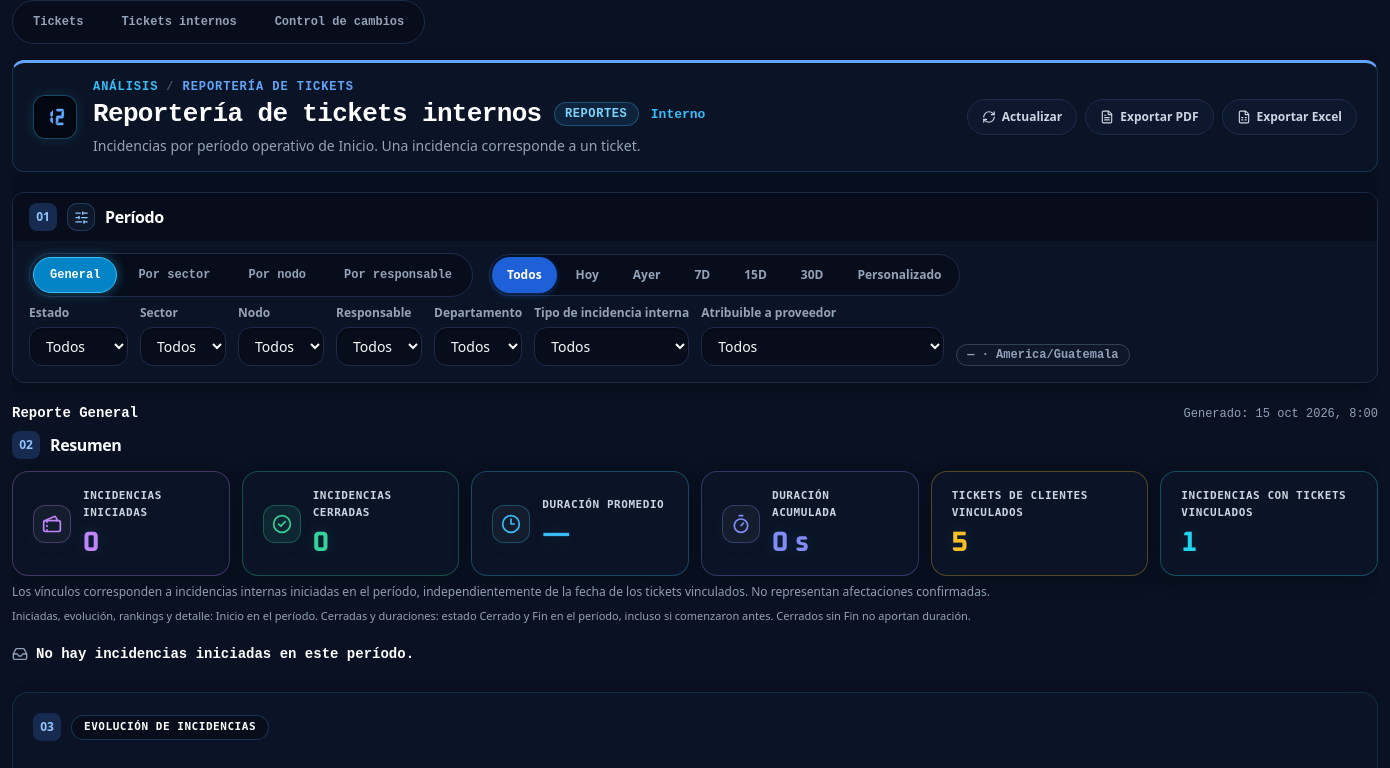
Test case: reportería interna integrada › admite resultados vacíos y solicita una selección en las pestañas individuales
Check: the heading "No hay incidencias iniciadas en este período." is shown, box [36, 644, 414, 664]
Click the button "Por nodo" at (277, 275), box [231, 257, 323, 293]
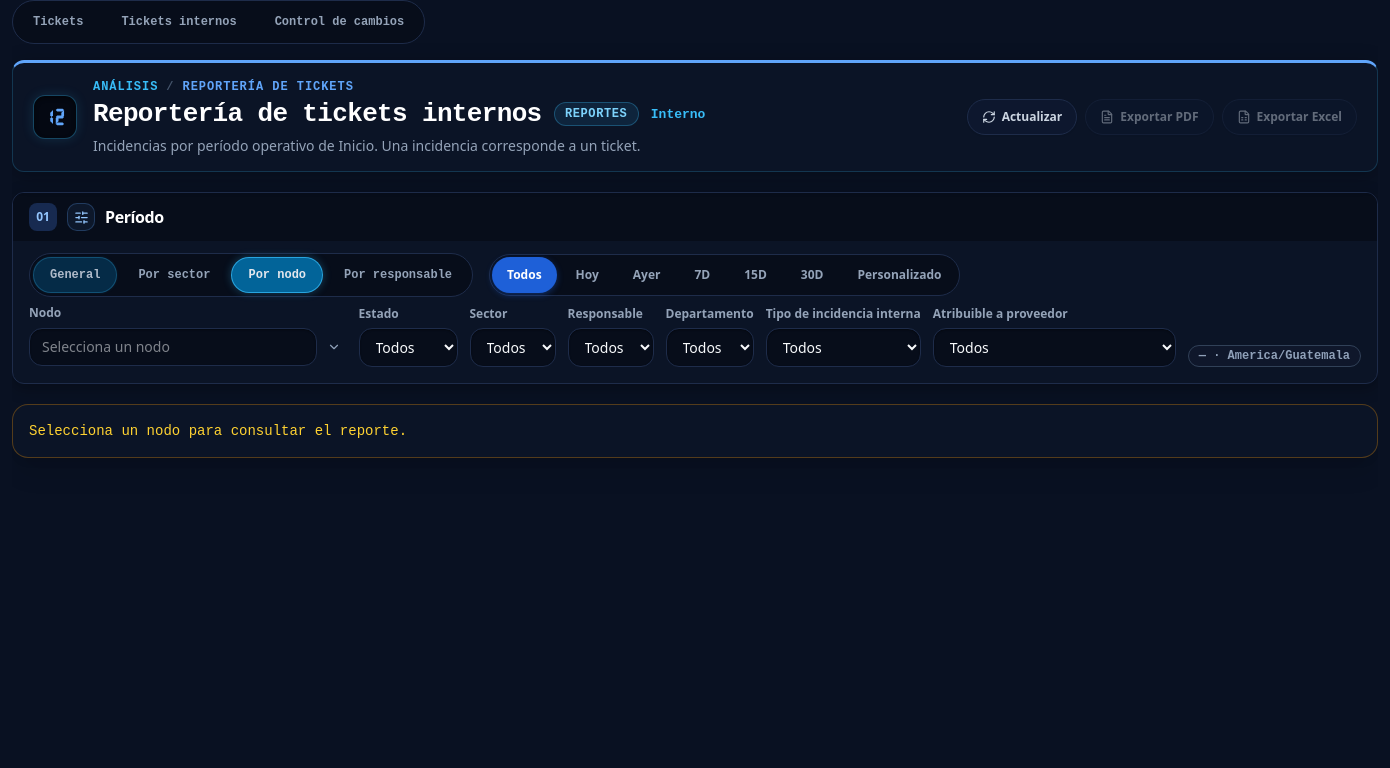
Check: the text "Selecciona un nodo para consultar el reporte." is shown, box [12, 404, 1378, 458]
Check: the button "Exportar PDF" is disabled, box [1085, 99, 1214, 135]
